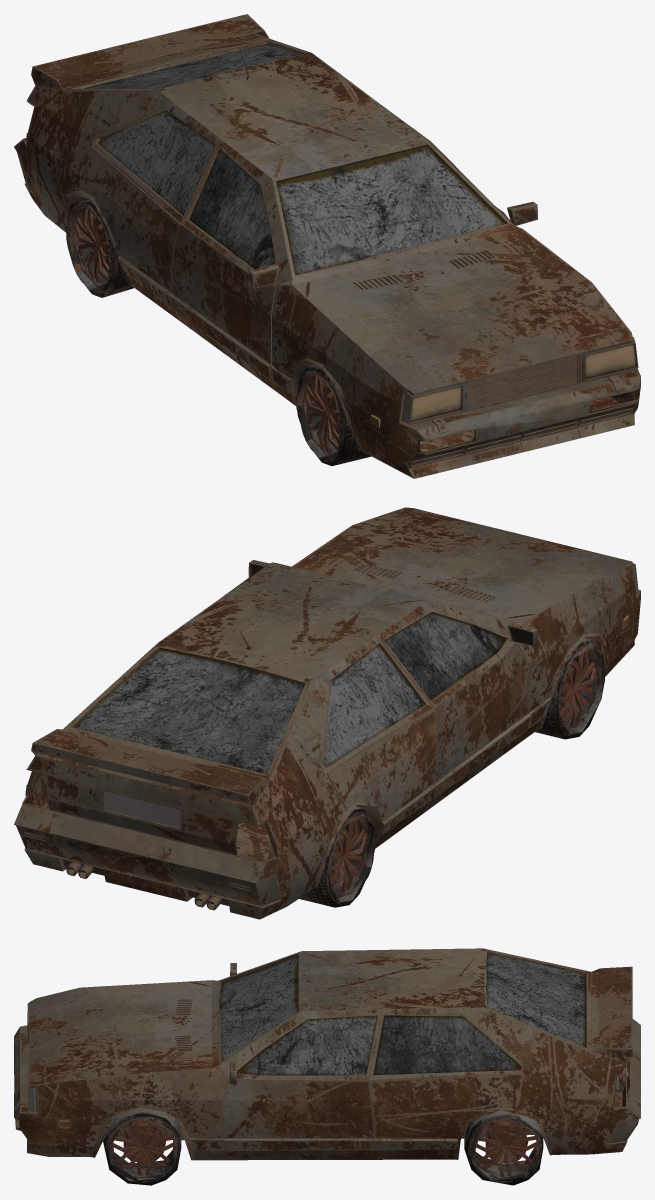
Rendered from car3_coupe_rust.glb.
The picture shows the model from 3 angles, top to bottom: view 1: azimuth 30°, elevation 25°; view 2: azimuth 150°, elevation 25°; view 3: azimuth 270°, elevation 25°; orthographic projection. The views are drawn at different scales.
Parts seen in each view (by area): view 1: AutoBody, AutoTires_low; view 2: AutoBody, AutoTires_low; view 3: AutoBody, AutoTires_low.
Part boxes in pixels (box(x1,y1,x2,y2)): AutoBody: box(14, 14, 640, 478); AutoTires_low: box(66, 198, 371, 466); AutoBody: box(14, 507, 640, 919); AutoTires_low: box(299, 638, 605, 907); AutoBody: box(14, 948, 640, 1160); AutoTires_low: box(103, 1110, 543, 1185).
Bounding box in the file's own units: 1.82 × 1.39 × 4.4.
Materials: 2 (2 with a texture image).
